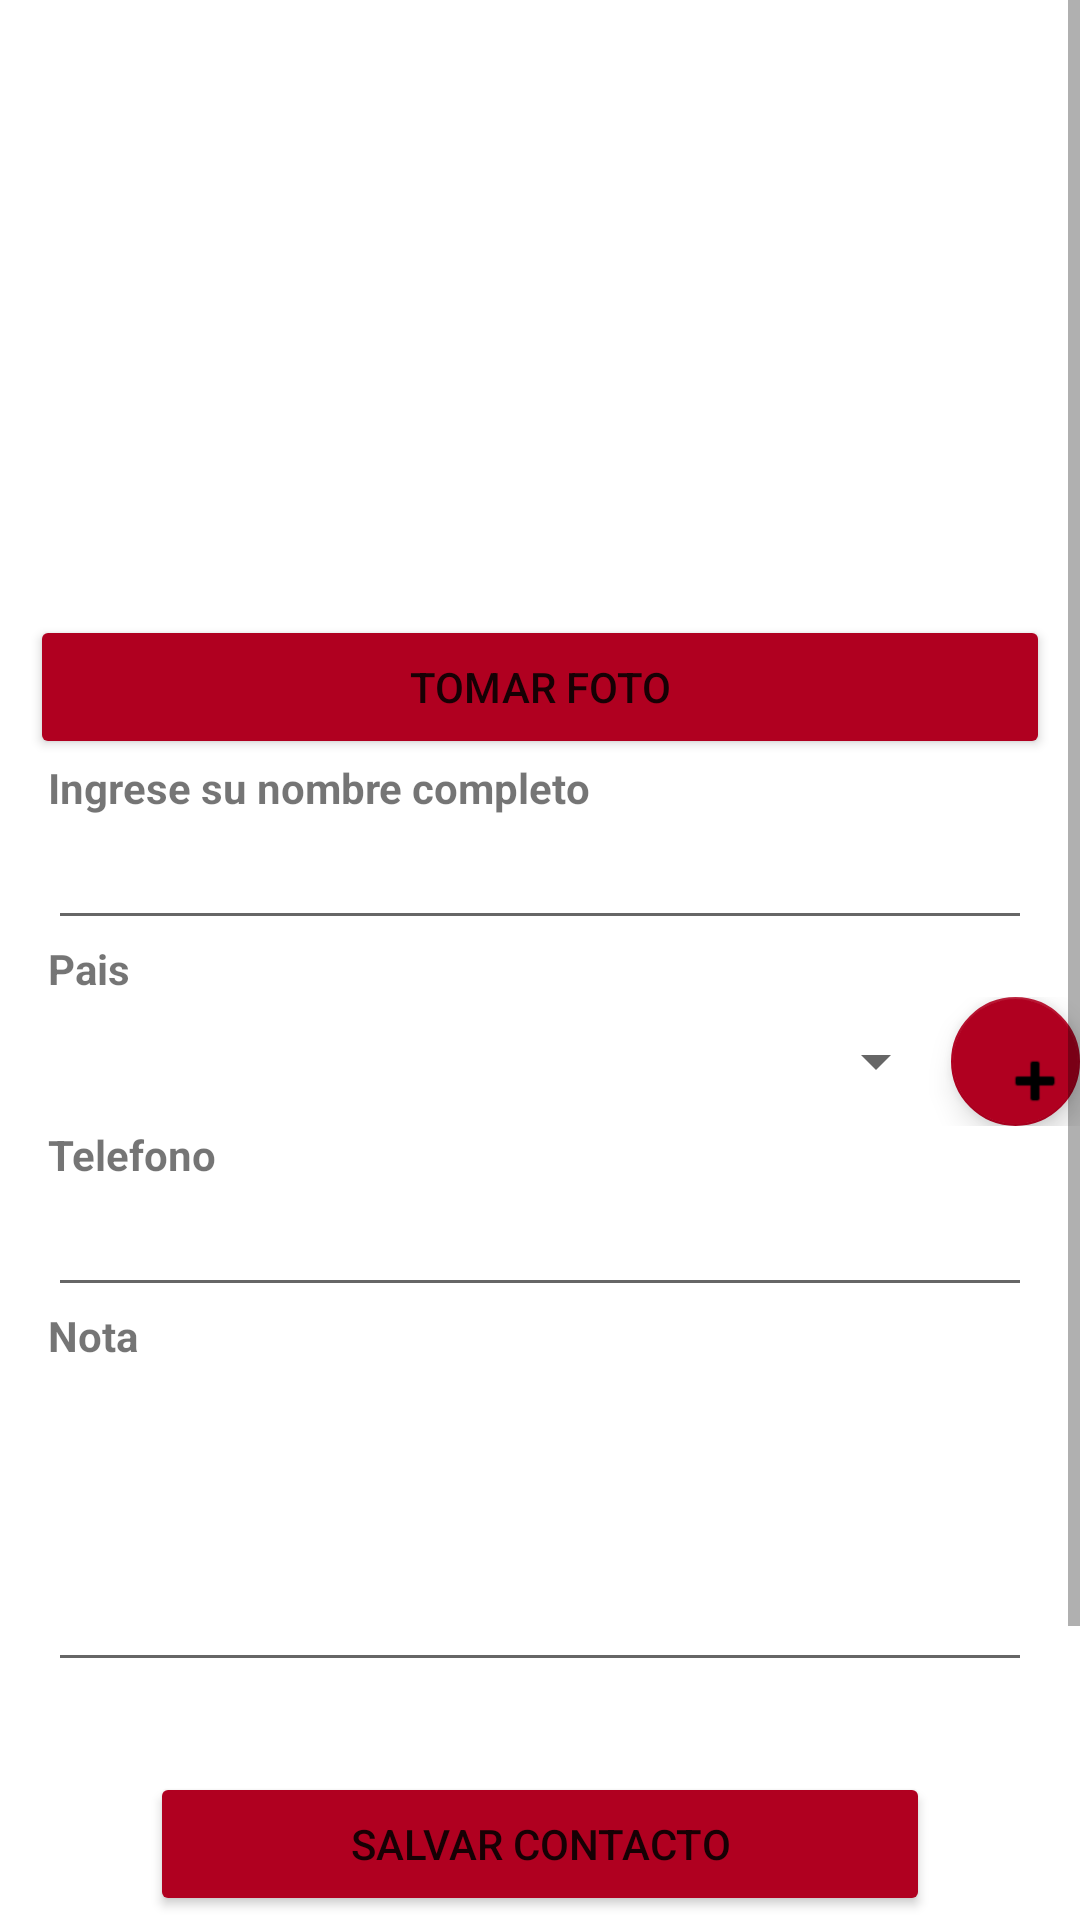

Icon bounding boxes for this 1080*1920 phone screenshot, format region(x1, y1, x2, y2):
add: region(951, 997, 1080, 1126)
